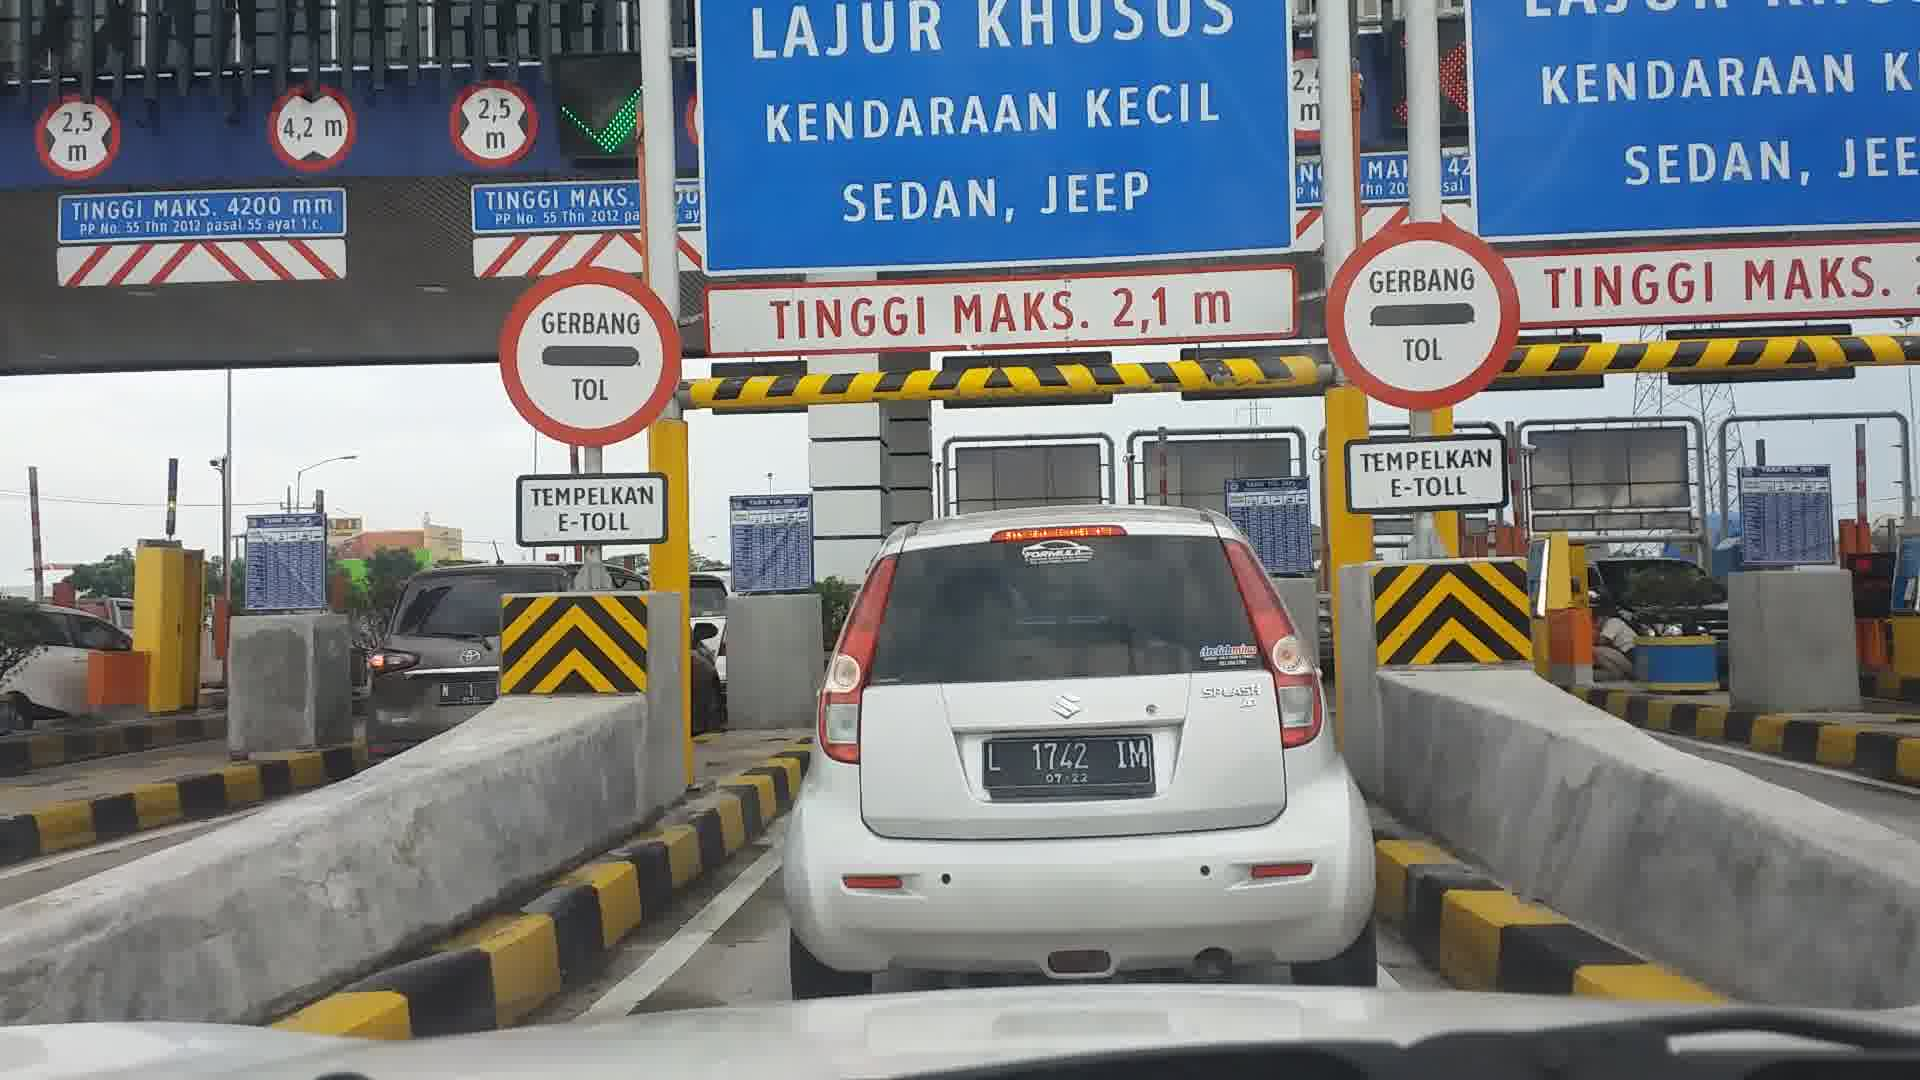plate_positive: (982, 735, 1156, 803)
